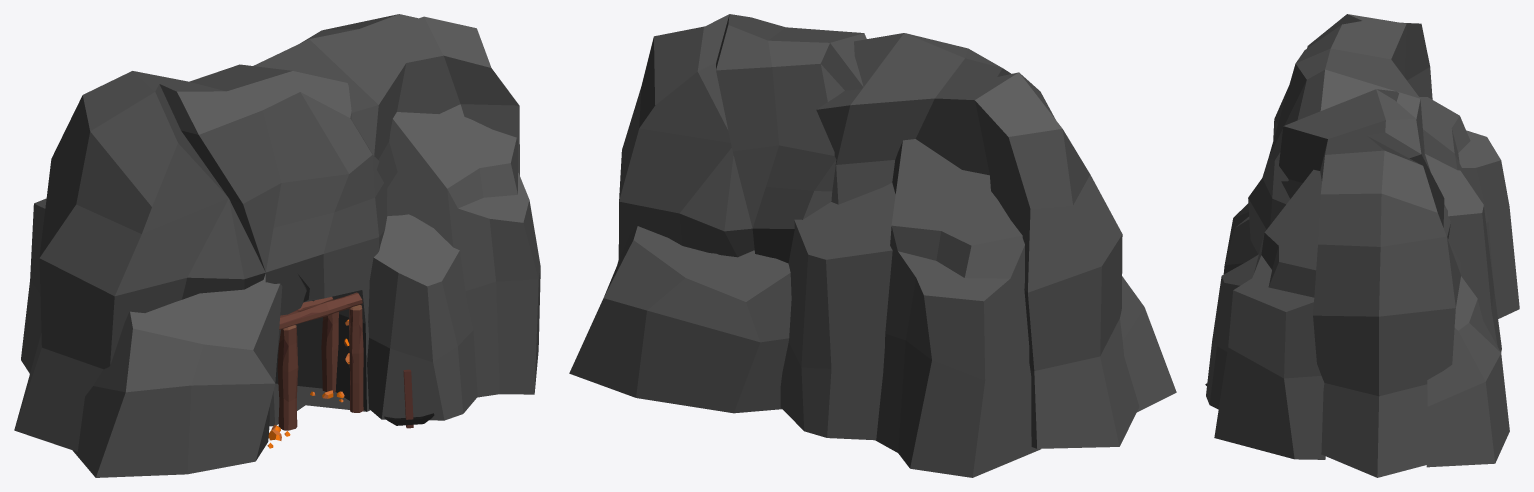
The model's file is iron_mine_1.fbx.
3 views of the same model, side by side, from view 1: azimuth 30°, elevation 25°; view 2: azimuth 150°, elevation 25°; view 3: azimuth 270°, elevation 25° (orthographic). The views are drawn at different scales.
Visible parts, largest first — view 1: rock.003, pickaxe.004; view 2: rock.003; view 3: rock.003.
Boxes of the visible parts, bbox=[...] form: rock.003: bbox=[14, 14, 540, 477]; pickaxe.004: bbox=[384, 369, 434, 428]; rock.003: bbox=[569, 14, 1176, 477]; rock.003: bbox=[1206, 14, 1519, 477].
Size of the model in its own units: 455 by 284 by 269.
